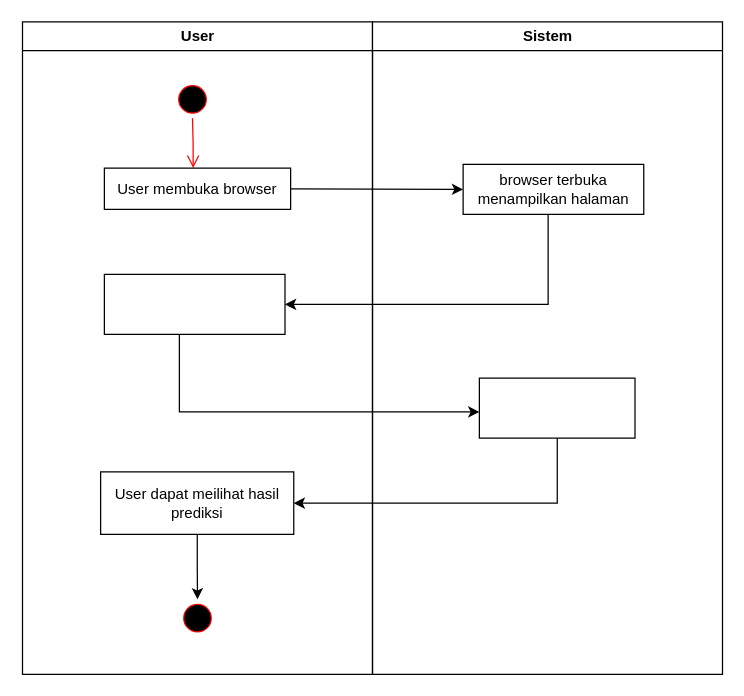
Image size: 744x696. Some labels were removed from this diagram. The centre of each missing label's shape, as x and y in pixels:
"browser menampilkan tabel prediksi" goes at (x=556, y=407).
"menu tabel prediksi" goes at (x=194, y=303).
